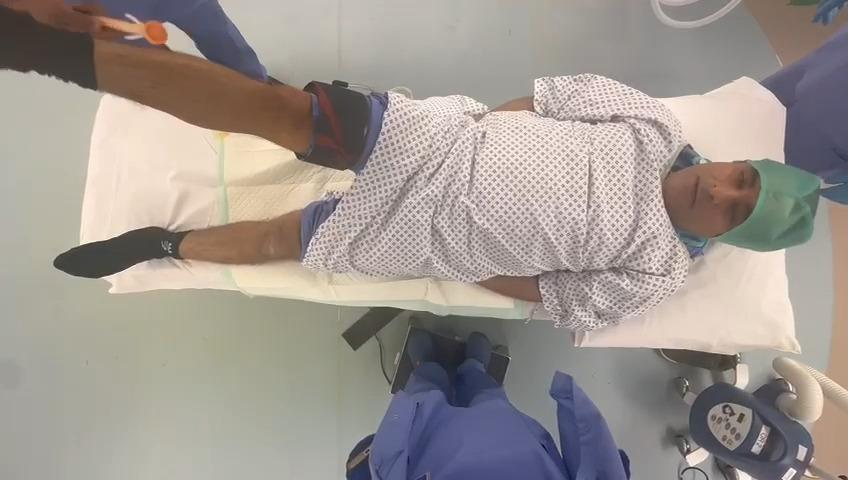patient: (0, 3, 820, 329)
prepstick: (94, 17, 167, 45)
tourniquet: (296, 81, 369, 170)
